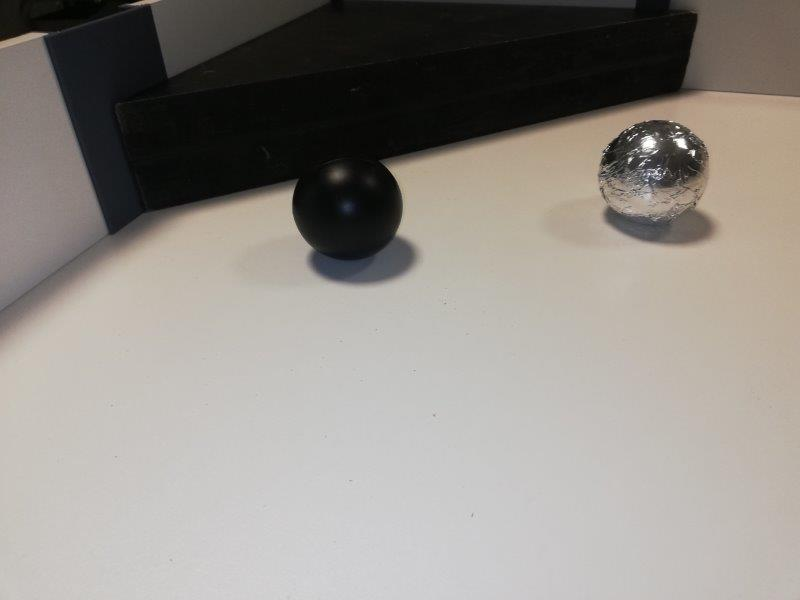bianca: (599, 120, 709, 222)
nera: (292, 151, 401, 259)
